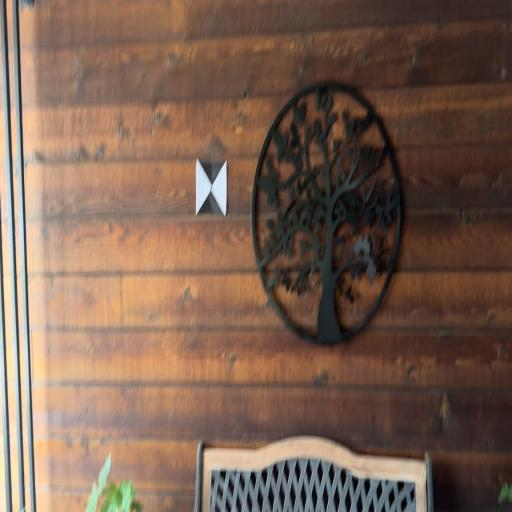target: (196, 159, 228, 216)
